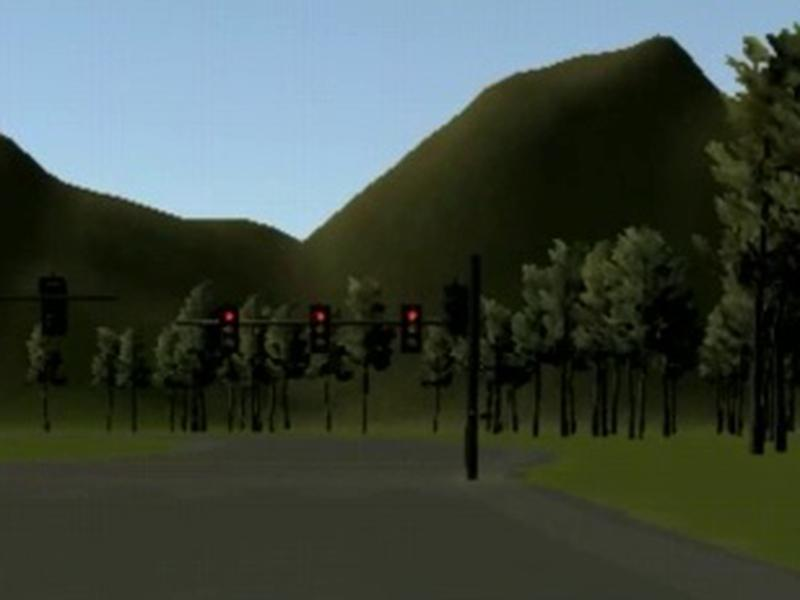Red: (401, 304, 424, 351), (310, 305, 331, 353), (219, 305, 240, 352)
